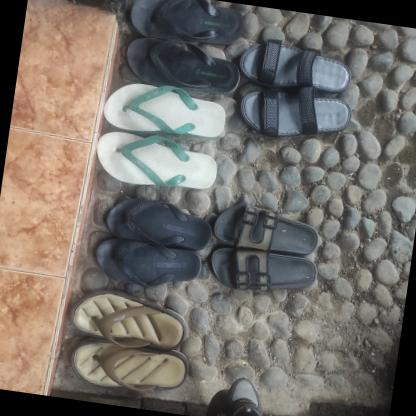Black Slide A: (209, 196, 322, 258), (207, 242, 319, 300)
Black Slide B: (238, 76, 353, 146), (237, 34, 359, 96)
Black Swallow A: (101, 190, 216, 252), (94, 232, 204, 292)
Black Swallow B: (122, 30, 244, 94), (125, 0, 250, 49)
Brown Flip Flop: (67, 282, 192, 353), (61, 336, 192, 400)
Green Swallow: (90, 127, 222, 196), (101, 75, 230, 141)
